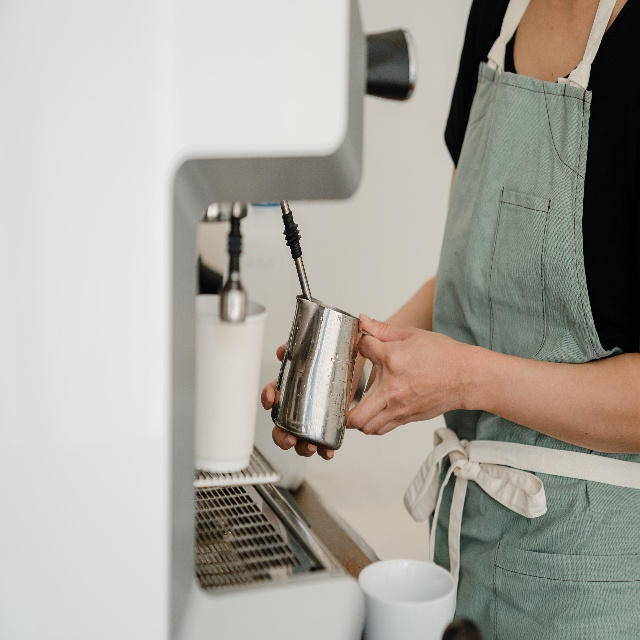Sin_guantes: (341, 306, 457, 439), (257, 328, 334, 461)
